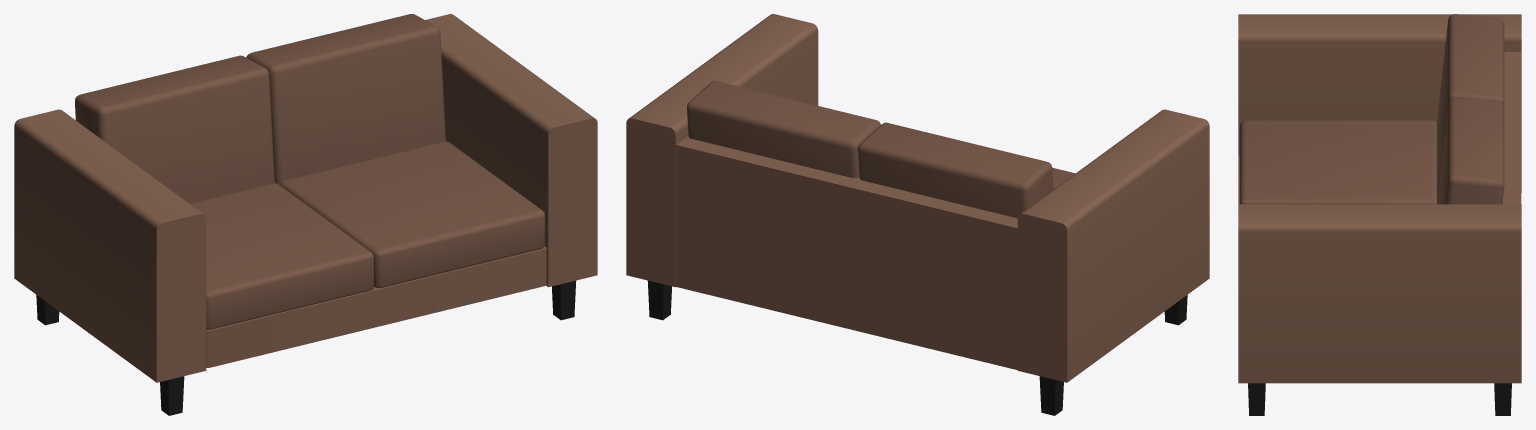
Rendered from SM_Props_Furniture_03.fbx.
3 views of the same model, side by side, from view 1: azimuth 30°, elevation 25°; view 2: azimuth 150°, elevation 25°; view 3: azimuth 270°, elevation 25° (orthographic).
Parts seen in each view (by area): view 1: SM_Props_Furniture_03; view 2: SM_Props_Furniture_03; view 3: SM_Props_Furniture_03.
Part boxes in pixels (bbox=[...]): SM_Props_Furniture_03: bbox=[14, 14, 597, 415]; SM_Props_Furniture_03: bbox=[626, 14, 1209, 415]; SM_Props_Furniture_03: bbox=[1238, 14, 1521, 415].
Bounding box in the file's own units: 1.79 × 0.8676 × 1.
